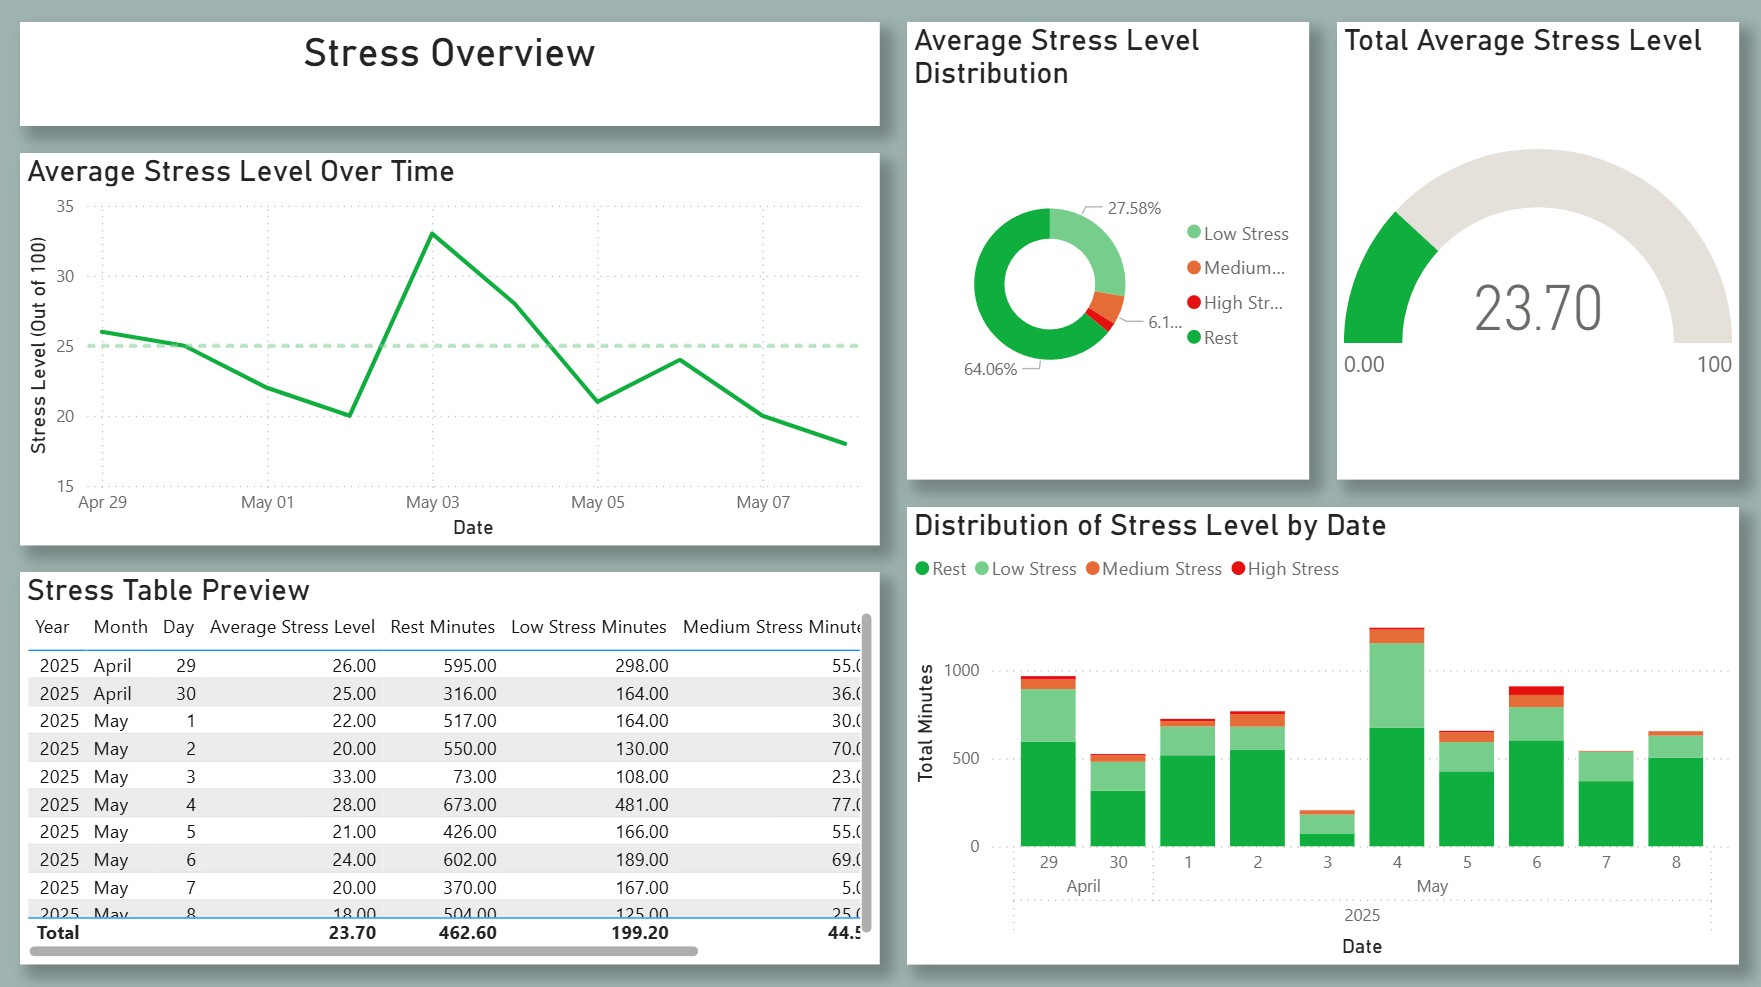

This screenshot's page, from the dashboard's own definition file:
{"tool":"powerbi","page":{"name":"Stress","canvas":[1280,720],"ordinal":4},"visuals":[{"type":"gauge","title":"Total Average Stress Level","fields":{"Y":["Avg(stress.avg_stress_level)"],"MaxValue":["stress.Measure"]},"box":[970,20,290,330],"z":0},{"type":"columnChart","title":"Distribution of Stress Level by Date","fields":{"Y":["Avg(stress.rest_minutes)","Avg(stress.low_stress_minutes)","Avg(stress.medium_stress_minutes)","Avg(stress.high_stress_minutes)"],"Category":["stress.entry_date.Variation.Date Hierarchy.Year","stress.entry_date.Variation.Date Hierarchy.Month","stress.entry_date.Variation.Date Hierarchy.Day"]},"box":[660,370,600,330],"z":1000},{"type":"lineChart","title":"Average Stress Level Over Time","fields":{"Y":["Avg(stress.avg_stress_level)"],"Category":["stress.entry_date.Variation.Date Hierarchy.Year","stress.entry_date.Variation.Date Hierarchy.Quarter","stress.entry_date.Variation.Date Hierarchy.Month","stress.entry_date.Variation.Date Hierarchy.Day"]},"box":[20,115,620,283],"z":2000},{"type":"tableEx","title":"Stress Table Preview","fields":{"Values":["stress.entry_date.Variation.Date Hierarchy.Year","stress.entry_date.Variation.Date Hierarchy.Month","stress.entry_date.Variation.Date Hierarchy.Day","Avg(stress.avg_stress_level)","Avg(stress.rest_minutes)","Avg(stress.low_stress_minutes)","Avg(stress.medium_stress_minutes)","Avg(stress.high_stress_minutes)"]},"box":[20,417,620,283],"z":3000},{"type":"donutChart","title":"Average Stress Level Distribution","fields":{"Y":["Avg(stress.low_stress_minutes)","Avg(stress.medium_stress_minutes)","Avg(stress.high_stress_minutes)","Avg(stress.rest_minutes)"]},"box":[660,20,290,330],"z":4000},{"type":"textbox","box":[20,20,620,75],"z":5000}]}

Visuals, with their boxes in screenshot pixels (x1, y1, x2, y2), scaled from the page's 1280x720 canvas onto the 1761x987 screenshot:
"Total Average Stress Level" gauge: box(1335, 27, 1733, 480)
"Distribution of Stress Level by Date" columnChart: box(908, 507, 1733, 960)
"Average Stress Level Over Time" lineChart: box(28, 158, 880, 546)
"Stress Table Preview" tableEx: box(28, 572, 880, 960)
"Average Stress Level Distribution" donutChart: box(908, 27, 1307, 480)
textbox: box(28, 27, 880, 130)
